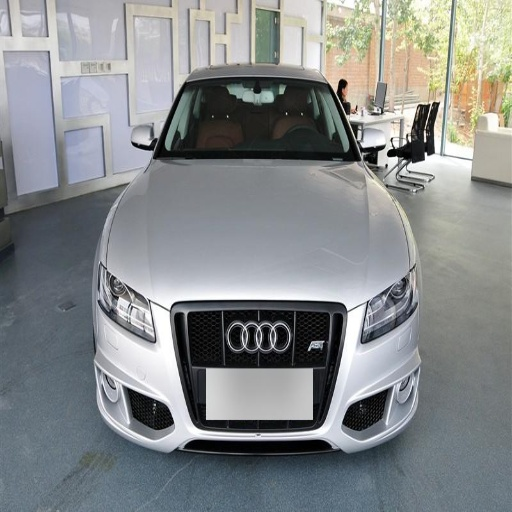back_right_light: (95, 303, 417, 451)
front_bumper: (154, 77, 358, 161)
front_left_door: (360, 268, 417, 343)
front_right_door: (96, 258, 156, 341)
front_right_light: (111, 160, 412, 307)
